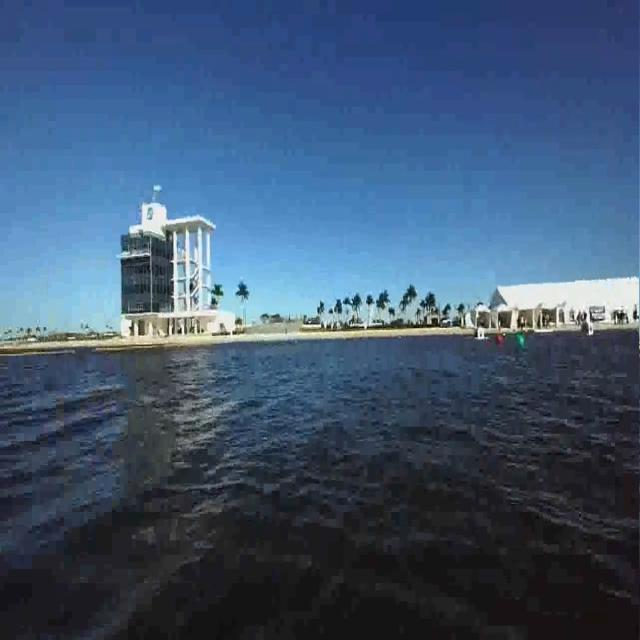green-buoy: (517, 329, 527, 353)
red-buoy: (493, 334, 507, 348)
